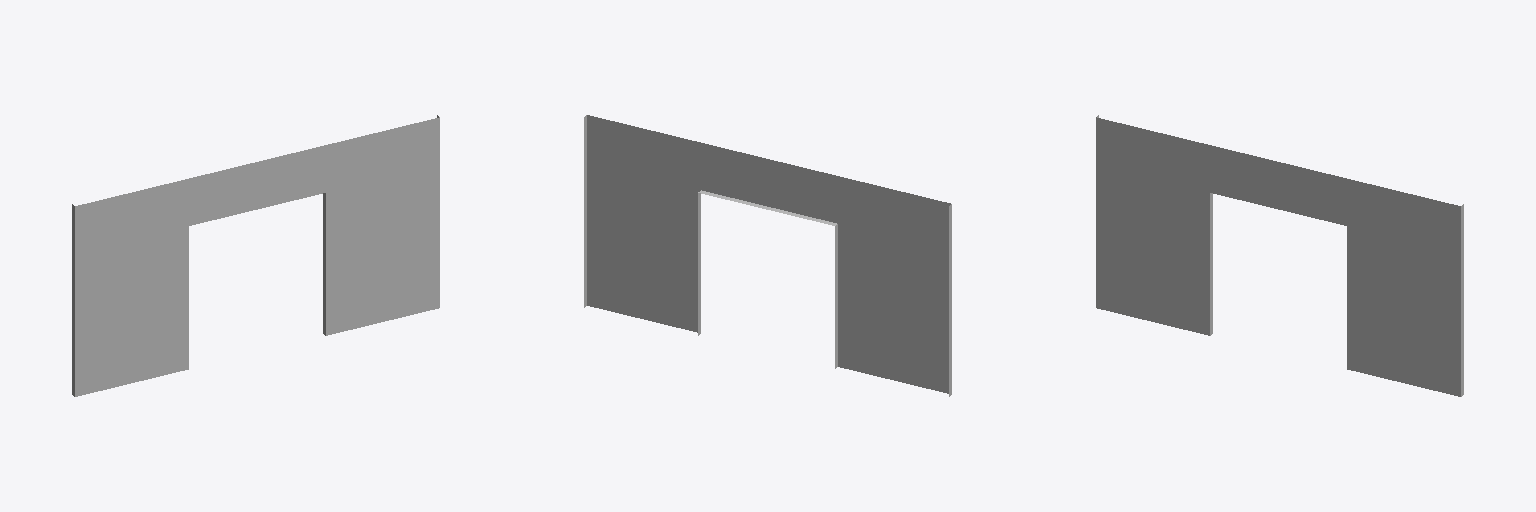
Rendered from door-frame_8x4_E.obj.
The picture shows the model from 3 angles: view 1: azimuth 30°, elevation 25°; view 2: azimuth 150°, elevation 25°; view 3: azimuth 330°, elevation 25°; orthographic projection.
Visible parts, largest first — view 1: door-frame_8x4_E_Cube.024; view 2: door-frame_8x4_E_Cube.024; view 3: door-frame_8x4_E_Cube.024.
Part boxes in pixels (left/top/right/bottom): door-frame_8x4_E_Cube.024: left=72, top=115, right=439, bottom=396; door-frame_8x4_E_Cube.024: left=584, top=115, right=951, bottom=396; door-frame_8x4_E_Cube.024: left=1096, top=115, right=1463, bottom=396.
Bounding box in the file's own units: 8 × 4 × 0.125.